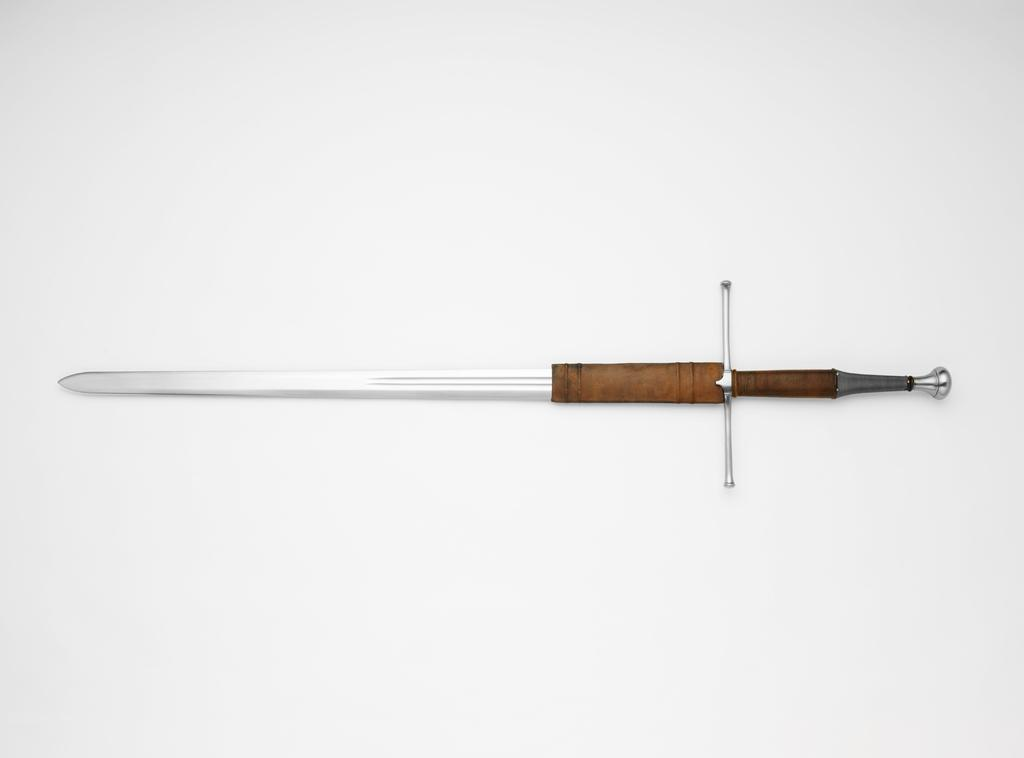Sword: (58, 277, 952, 486)
